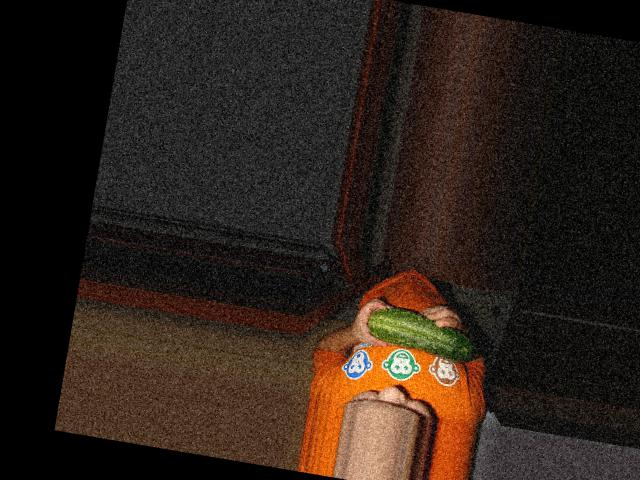cucumber: (362, 303, 482, 365)
